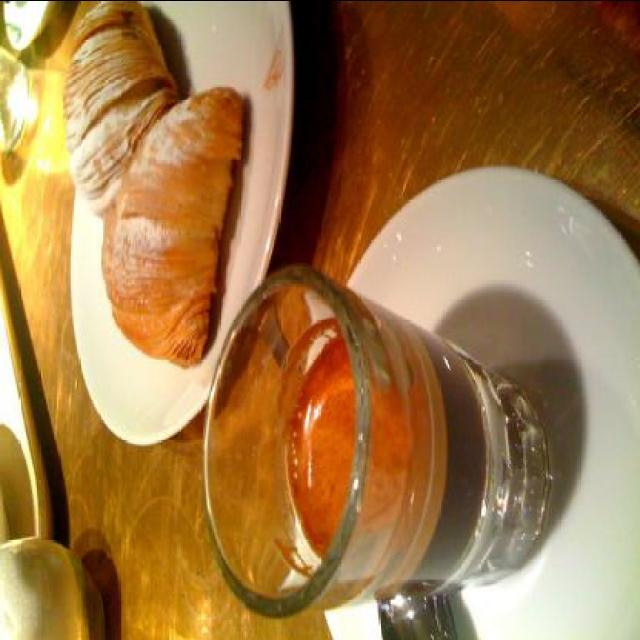Croissant: (104, 86, 242, 370), (64, 1, 182, 224)
